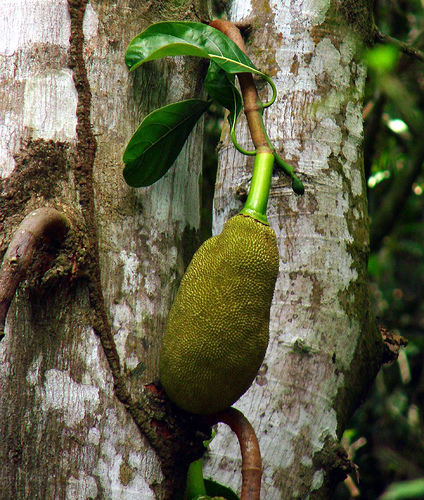jackfruit: (156, 146, 280, 420)
